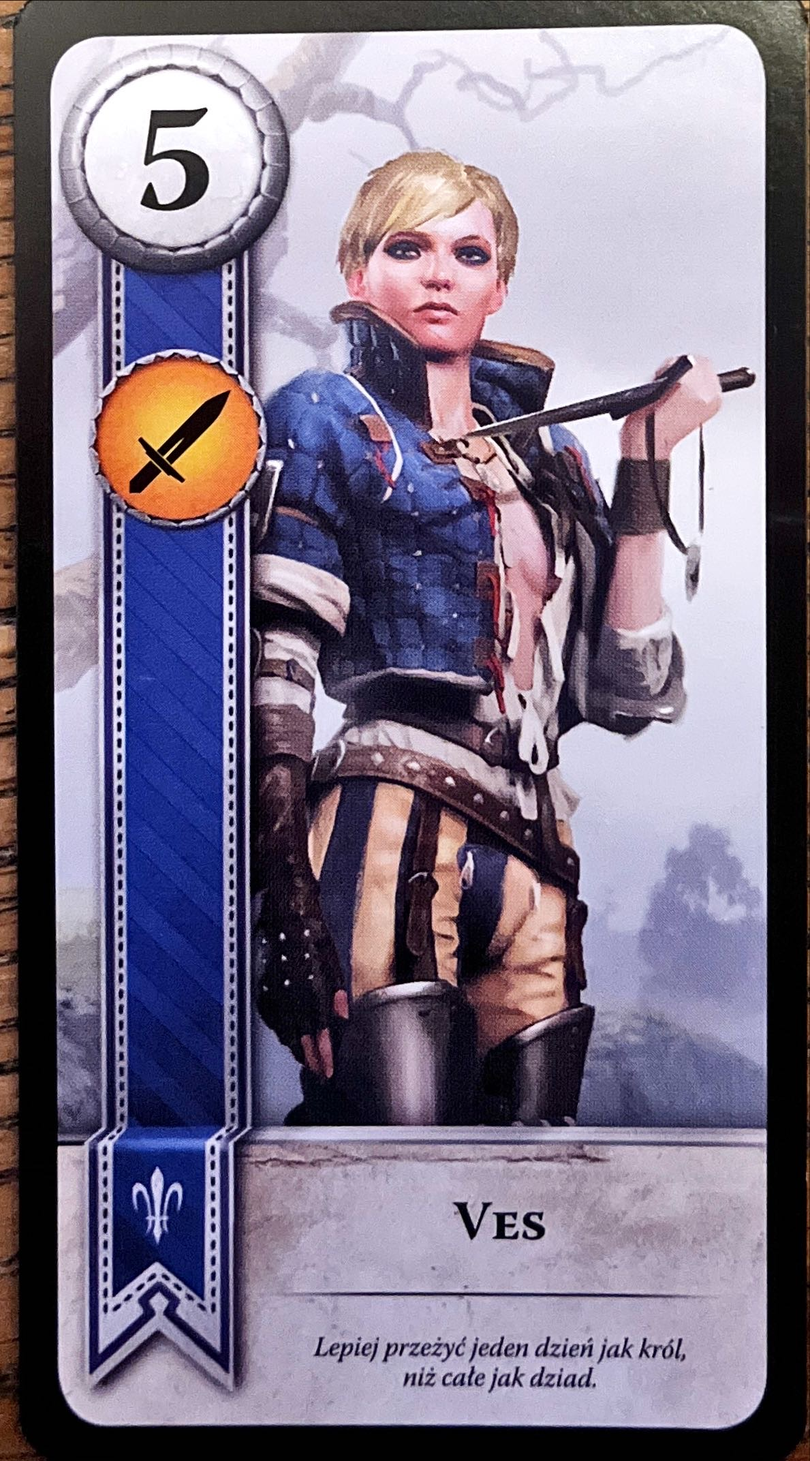5: (57, 41, 292, 270)
miecz: (85, 349, 270, 527)
